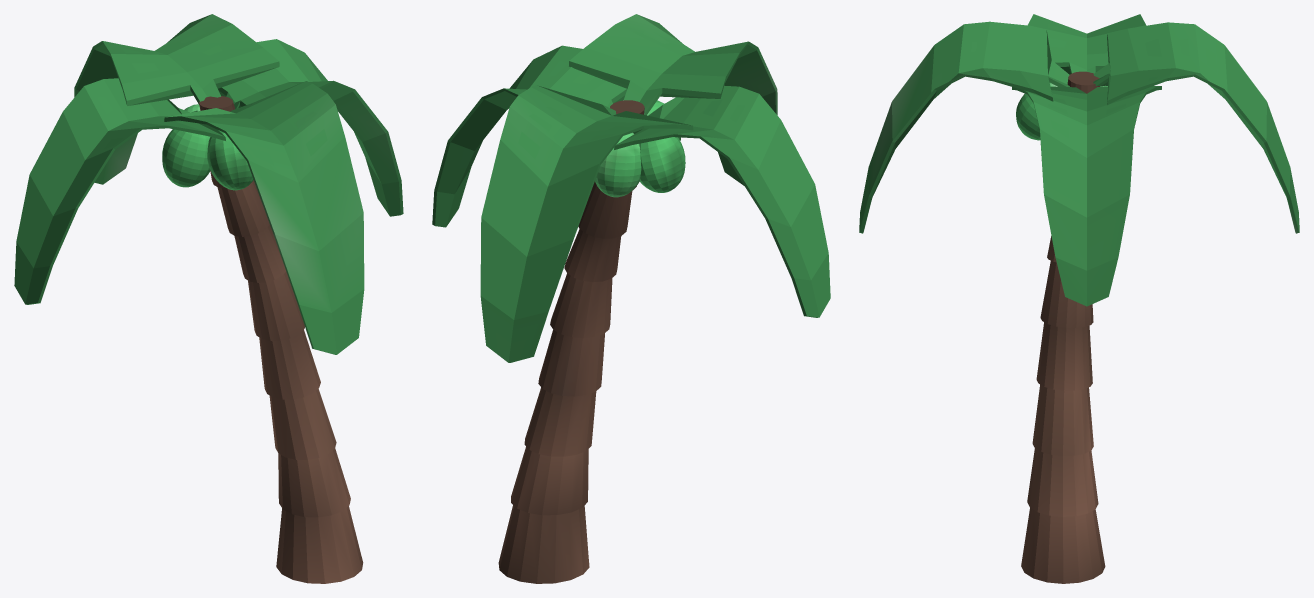
The model's file is COQUEIRO.fbx.
3 renders of one model, left to right at view 1: azimuth 30°, elevation 25°; view 2: azimuth 150°, elevation 25°; view 3: azimuth 270°, elevation 25°, orthographic. The views are drawn at different scales.
Parts seen in each view (by area): view 1: Cylinder; view 2: Cylinder; view 3: Cylinder.
Boxes of the visible parts, <box> form: Cylinder: <box>14,14,403,583</box>; Cylinder: <box>432,14,830,583</box>; Cylinder: <box>859,14,1299,583</box>.
Bounding box in the file's own units: 1232 × 1631 × 1370.
